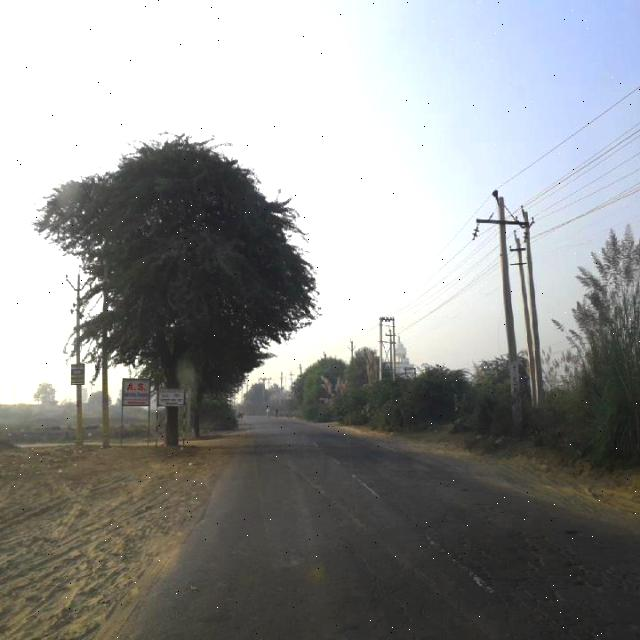D20: (442, 502, 639, 638)
D44: (414, 512, 501, 596)
